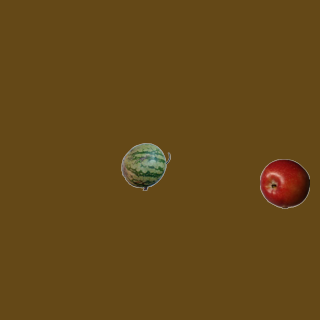Apple Braeburn: (259, 158, 309, 208)
Watermelon: (120, 141, 170, 191)
